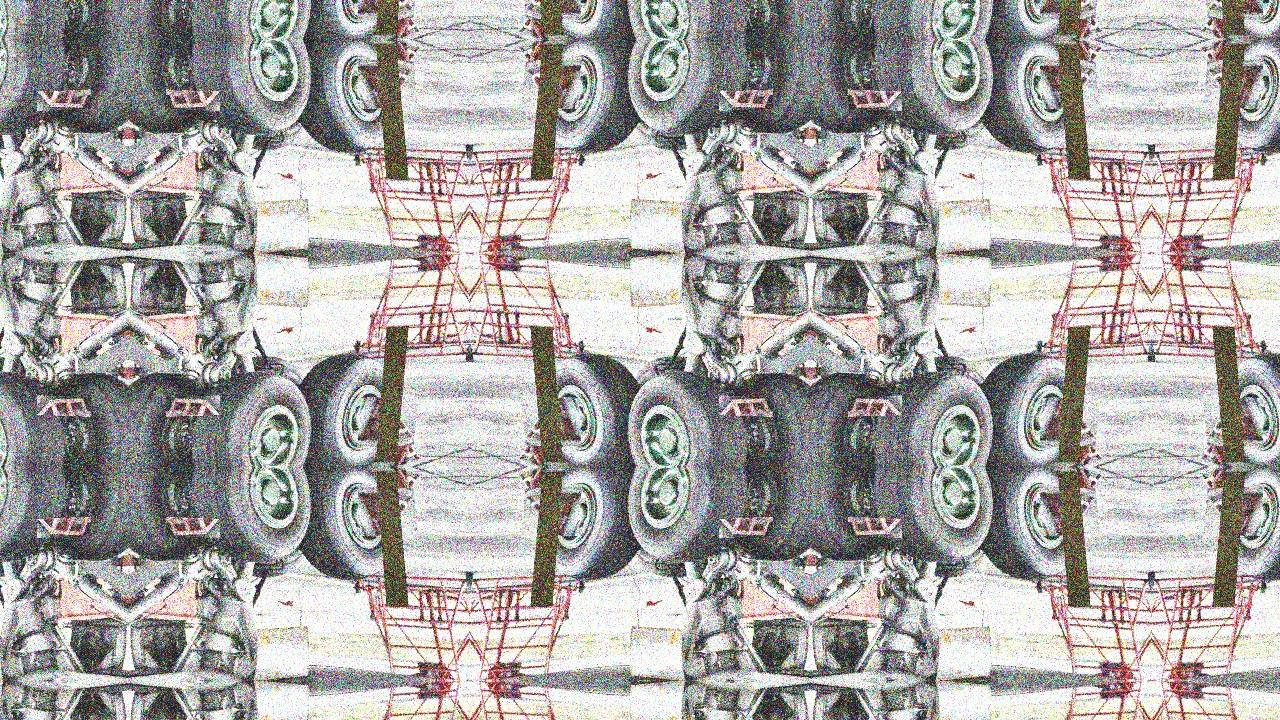chock: (1039, 59, 1101, 111), (1203, 59, 1265, 111), (1039, 395, 1101, 447), (1203, 395, 1265, 447), (1039, 487, 1101, 539), (1203, 487, 1265, 539), (357, 59, 418, 111), (521, 59, 582, 111), (357, 395, 418, 447), (521, 395, 582, 447), (357, 487, 418, 539), (521, 487, 582, 539), (373, 39, 424, 80), (514, 39, 565, 80), (1056, 39, 1107, 80), (1197, 39, 1248, 80), (373, 426, 424, 467), (514, 426, 565, 467), (1056, 426, 1107, 467), (1197, 426, 1248, 467), (373, 467, 424, 508), (514, 467, 565, 508), (1056, 467, 1107, 508), (1197, 467, 1248, 508), (373, 0, 424, 39), (514, 0, 565, 39), (1056, 0, 1107, 39), (1197, 0, 1248, 39), (36, 89, 91, 111), (165, 89, 220, 111), (719, 89, 774, 111), (848, 89, 903, 111), (36, 395, 91, 417), (165, 395, 220, 417), (719, 395, 774, 417), (848, 395, 903, 417), (36, 517, 91, 539), (165, 517, 220, 539), (719, 517, 774, 539), (848, 517, 903, 539), (1039, 0, 1101, 19), (1203, 0, 1265, 19), (357, 0, 418, 19), (521, 0, 582, 19)
wheel: (188, 39, 316, 138), (623, 39, 751, 138), (188, 368, 316, 467), (623, 368, 751, 467), (188, 467, 316, 566), (623, 467, 751, 566), (871, 39, 998, 138), (871, 368, 998, 467), (871, 467, 998, 566), (301, 39, 400, 156), (301, 350, 400, 467), (301, 467, 400, 584), (539, 39, 637, 156), (984, 39, 1082, 156), (539, 350, 637, 467), (984, 350, 1082, 467), (539, 467, 637, 584), (984, 467, 1082, 584), (730, 39, 811, 135), (730, 371, 811, 467), (730, 467, 811, 563), (48, 39, 128, 135), (128, 39, 208, 135), (811, 39, 891, 135), (48, 371, 128, 467), (128, 371, 208, 467), (811, 371, 891, 467), (48, 467, 128, 563), (128, 467, 208, 563), (811, 467, 891, 563), (1222, 39, 1280, 156), (1222, 350, 1280, 467), (1222, 467, 1280, 584), (0, 39, 68, 138), (0, 368, 68, 467), (0, 467, 68, 566), (188, 0, 316, 39), (623, 0, 751, 39), (871, 0, 998, 39), (301, 0, 400, 39), (539, 0, 637, 39), (984, 0, 1082, 39), (730, 0, 811, 39), (48, 0, 128, 39), (128, 0, 208, 39), (811, 0, 891, 39), (0, 0, 68, 39), (1222, 0, 1280, 39), (931, 121, 987, 152), (931, 354, 987, 385), (931, 549, 987, 580), (249, 121, 304, 152), (635, 121, 690, 152), (249, 354, 304, 385), (635, 354, 690, 385), (249, 549, 304, 580), (635, 549, 690, 580), (0, 121, 7, 152), (0, 354, 7, 385), (0, 549, 7, 580)
